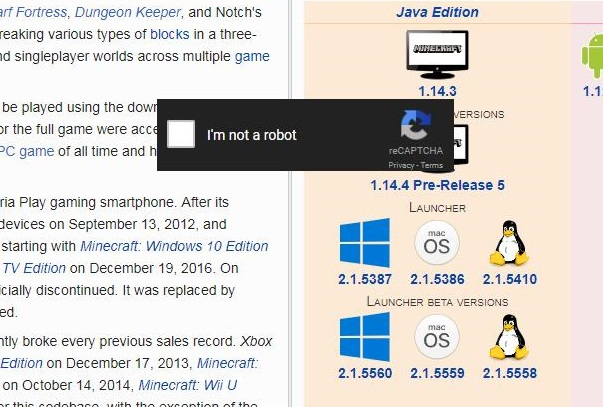captcha: (166, 118, 297, 149)
